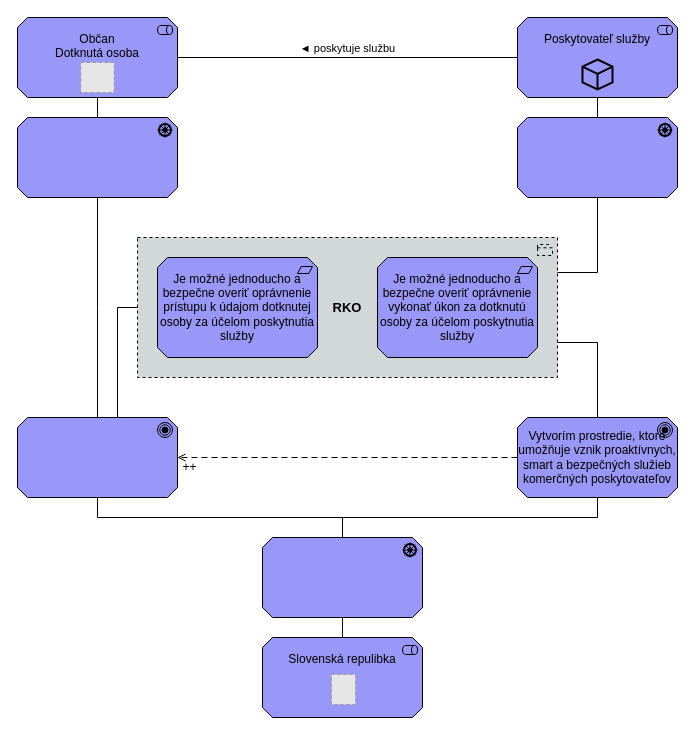
Some shapes in this 695 by 735 pixel diagram are drawn without their labels. Grey dashed boxes stand in for pictures. The shapes that lost their labels are listed below. From the top down, each one's centre as x and y in pixels, then its label:
At point (97, 157): "Chcem bezpečne využívať smart služby verejnej správy aj komerčných subjektov".
At point (597, 157): "Chcem poskytovať proaktívne smart služby pre svojich klientov".
At point (97, 457): "Budem poskytovať proaktívne smart služby pre svojich klientov".
At point (342, 577): "Chcem aby občan mal k dispozícii proaktívne smart služby".
